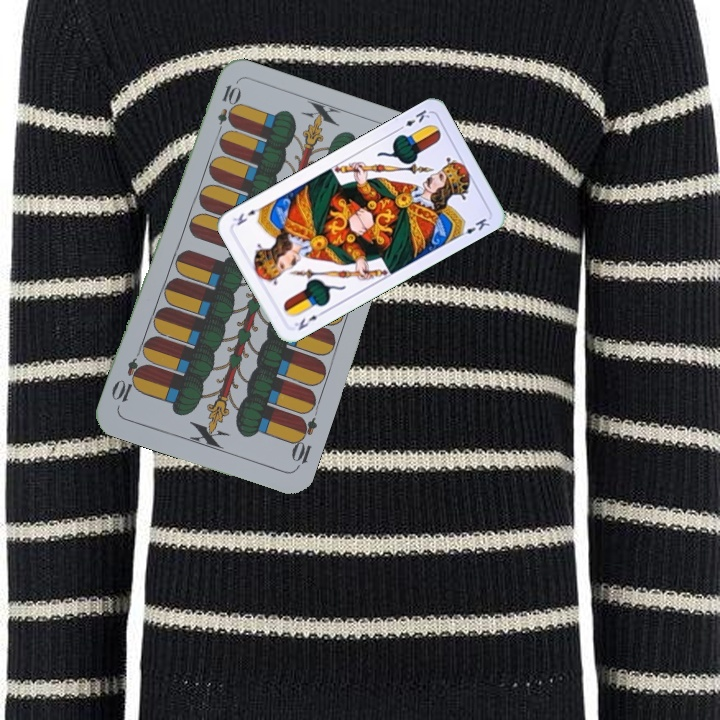E10: (287, 413, 320, 472), (212, 81, 241, 139)
EK: (394, 105, 432, 133), (290, 307, 327, 333)
